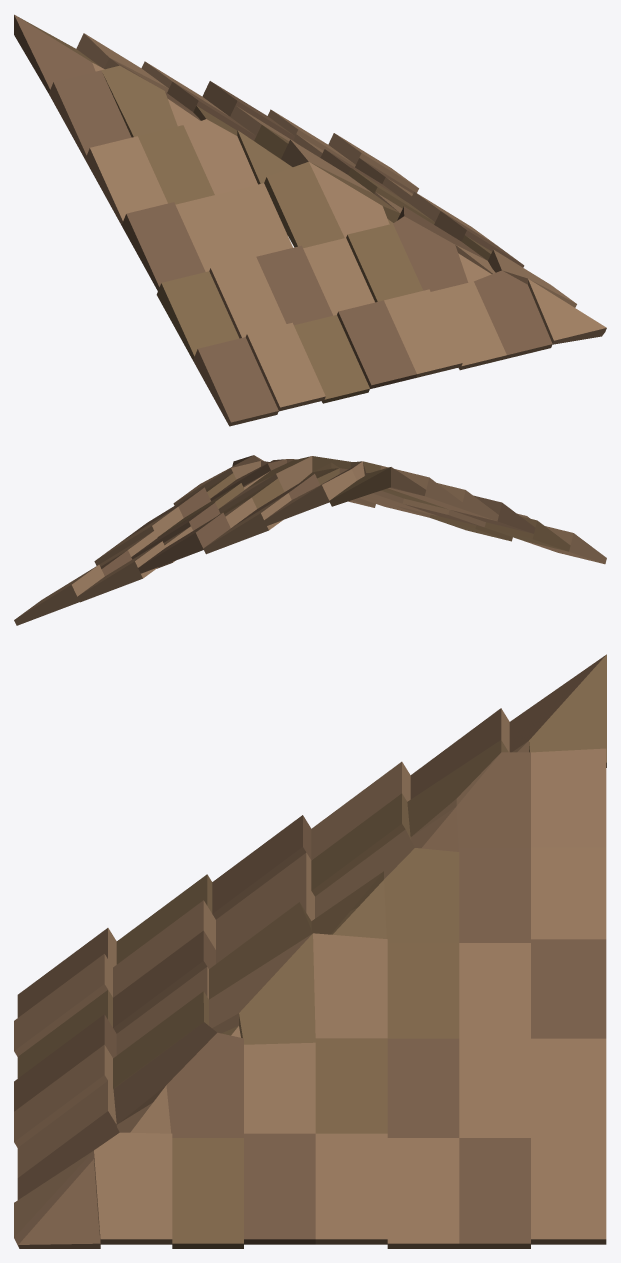
Rendered from fantasy_roof_tile_1_corner.fbx.
3 views of the same model, one above another, from view 1: azimuth 30°, elevation 25°; view 2: azimuth 150°, elevation 25°; view 3: azimuth 270°, elevation 25° (orthographic). The views are drawn at different scales.
Parts seen in each view (by area): view 1: Cube.042; view 2: Cube.042; view 3: Cube.042.
Part boxes in pixels (x1,y1,x2,y2): Cube.042: [14, 14, 606, 426]; Cube.042: [14, 455, 606, 625]; Cube.042: [14, 654, 606, 1248].
Bounding box in the file's own units: 356 × 230 × 356.
